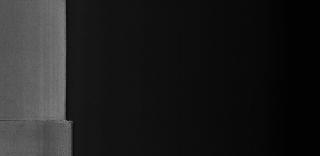welding line: (2, 114, 82, 126)
